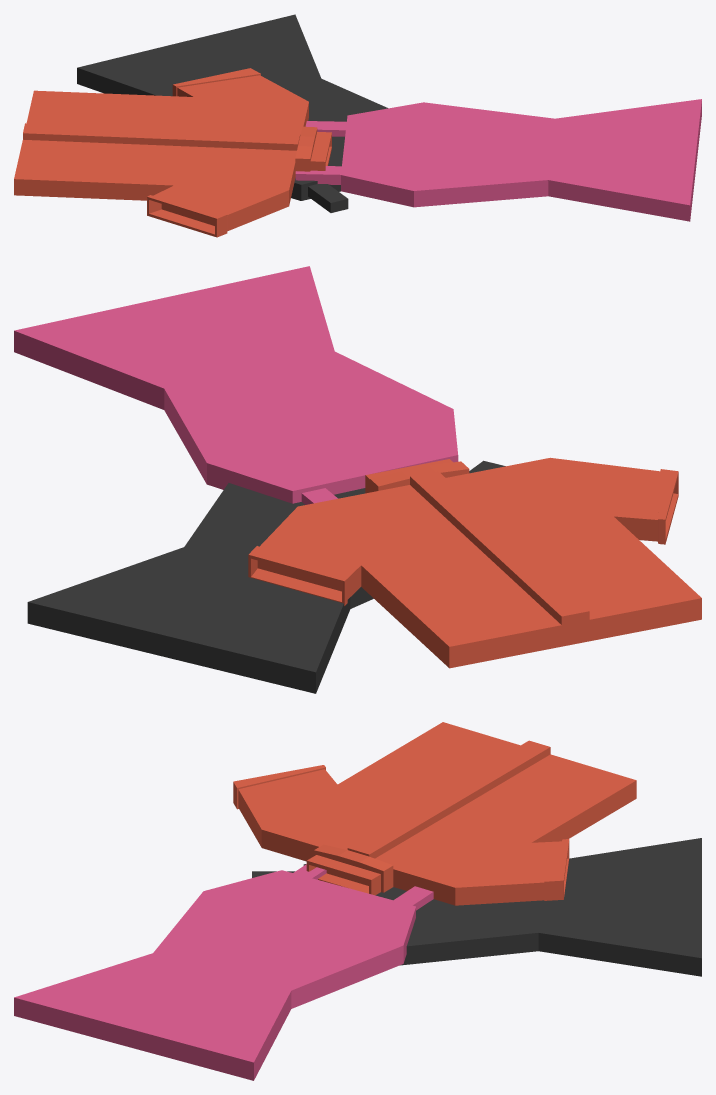
File: Cloth_2.fbx
3 views of the same model, one above another, from view 1: azimuth 30°, elevation 25°; view 2: azimuth 150°, elevation 25°; view 3: azimuth 270°, elevation 25° (orthographic). The views are drawn at different scales.
Parts seen in each view (by area): view 1: Cube.028, Cube.026, Cube.027; view 2: Cube.028, Cube.026, Cube.027; view 3: Cube.028, Cube.026, Cube.027.
Boxes of the visible parts, x1,y1,x2,y2 form: Cube.028: (14,68,331,237); Cube.026: (295,99,701,221); Cube.027: (77,14,387,212); Cube.028: (248,457,701,668); Cube.026: (14,266,458,504); Cube.027: (27,460,505,693); Cube.028: (233,722,636,905); Cube.026: (14,864,433,1080); Cube.027: (252,838,701,976).
Bounding box in the file's own units: 259 × 15.79 × 226.
